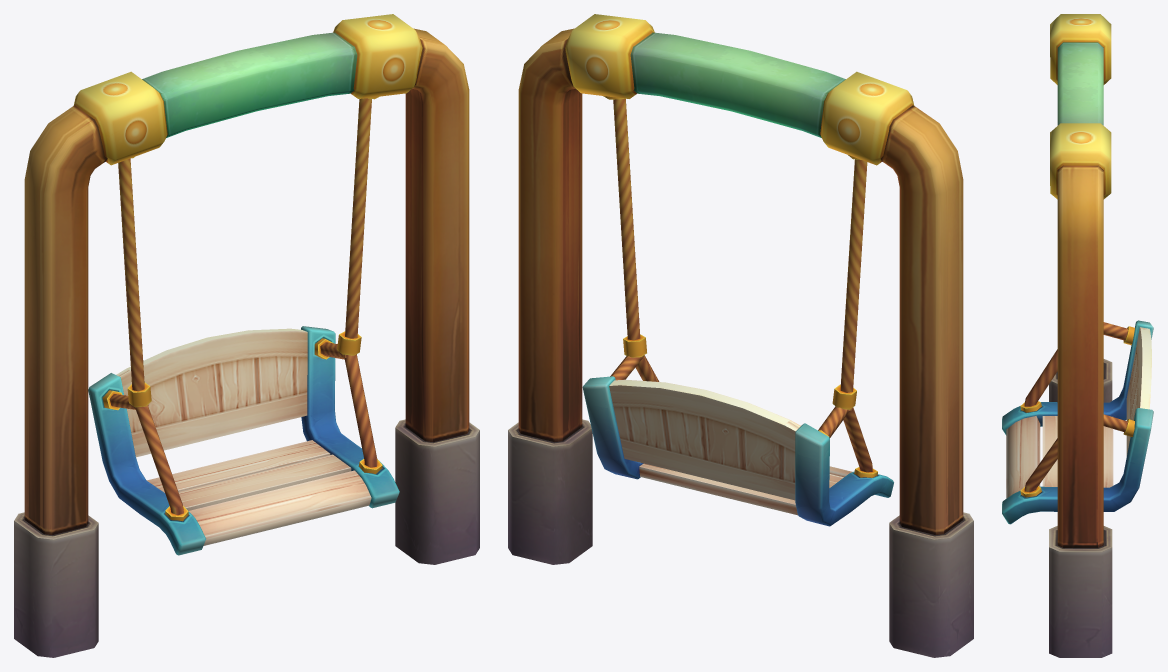
The model's file is SE_Swing_01.fbx.
3 renders of one model, left to right at view 1: azimuth 30°, elevation 25°; view 2: azimuth 150°, elevation 25°; view 3: azimuth 270°, elevation 25°, orthographic. The views are drawn at different scales.
Visible parts, largest first — view 1: SE_Swing_01; view 2: SE_Swing_01; view 3: SE_Swing_01.
Part boxes in pixels (x1,y1,x2,y2): SE_Swing_01: [14, 14, 479, 657]; SE_Swing_01: [508, 14, 973, 657]; SE_Swing_01: [1002, 14, 1153, 657].
Size of the model in its own units: 6.25 by 7.28 by 2.07.
